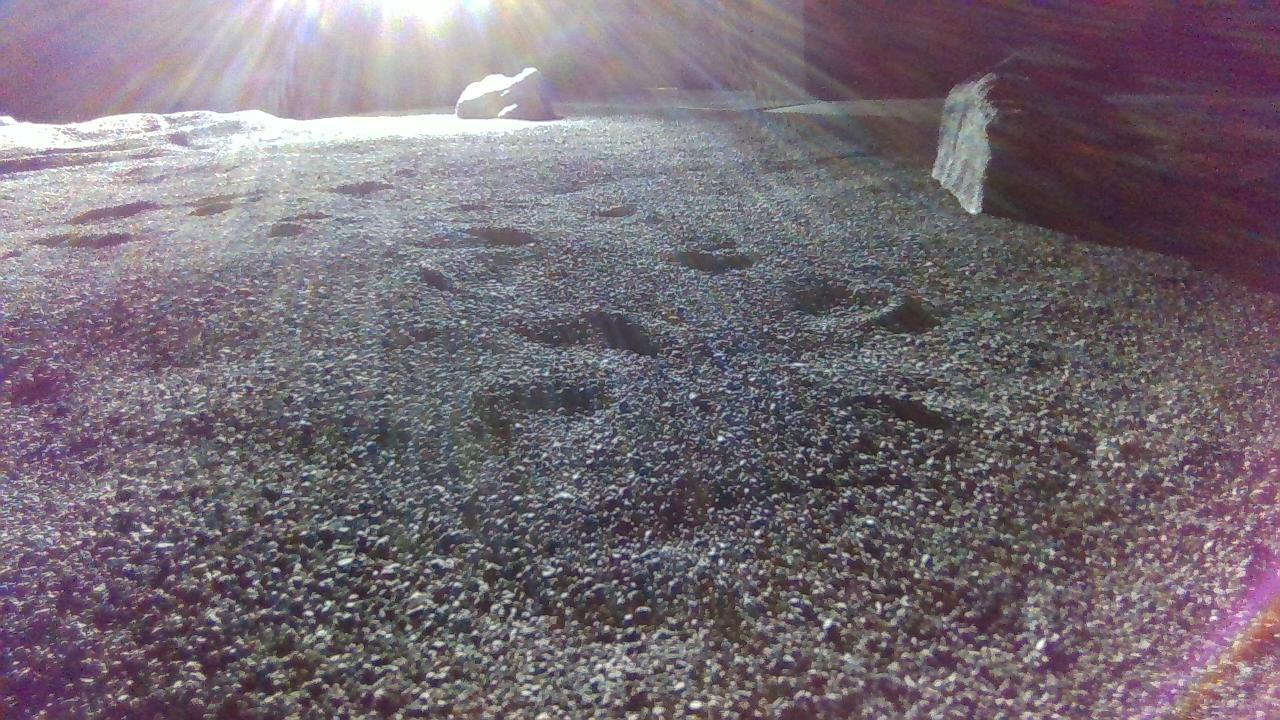rock: (934, 72, 999, 212), (456, 66, 556, 119)
